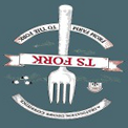fork: (41, 5, 90, 107)
